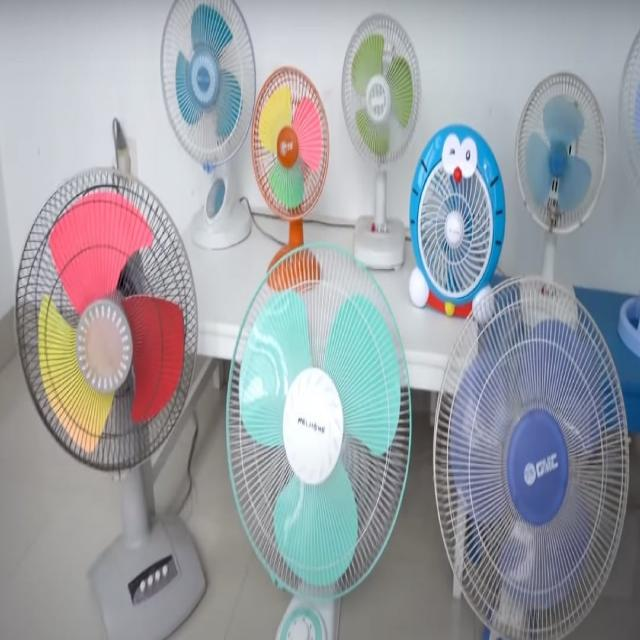fan: (18, 171, 201, 638)
